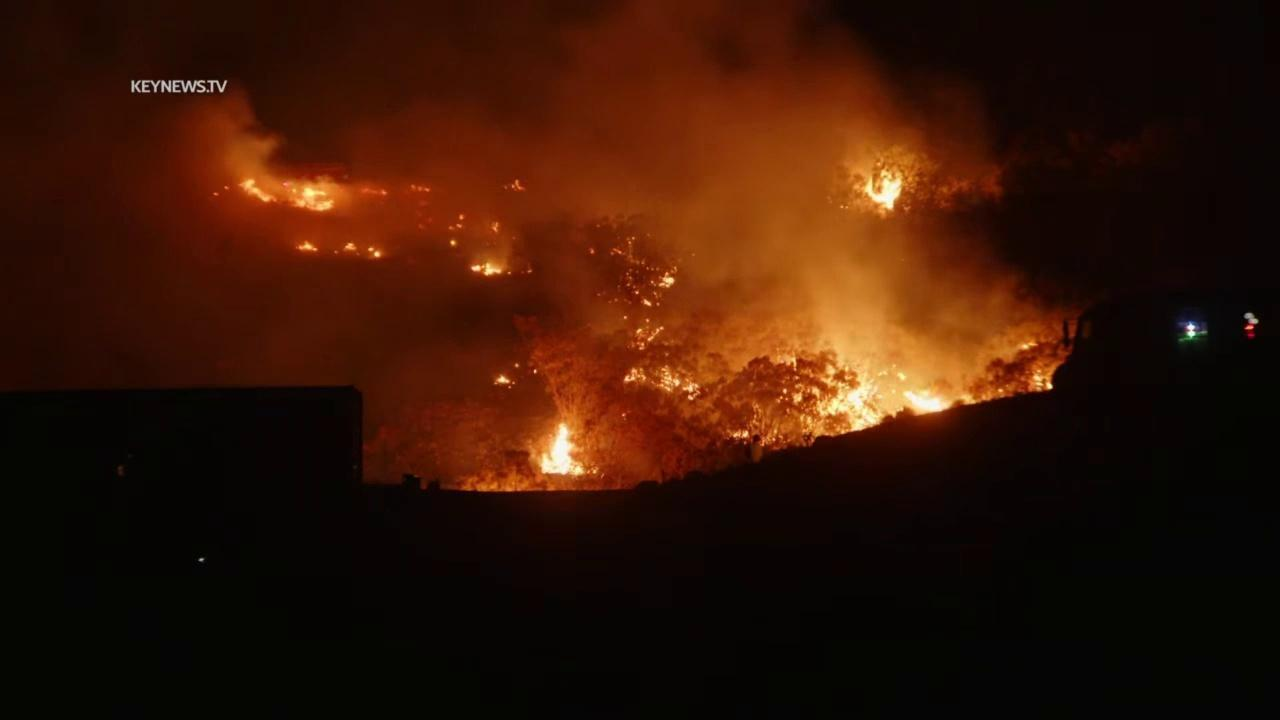fire: (779, 376, 892, 435), (233, 176, 338, 215), (539, 422, 598, 477), (623, 363, 703, 402), (862, 167, 905, 211), (901, 386, 952, 417), (634, 318, 666, 350), (1028, 367, 1054, 391), (466, 260, 502, 276), (291, 237, 320, 255), (658, 266, 680, 289), (493, 374, 515, 391), (731, 428, 750, 445), (504, 179, 526, 192), (360, 186, 387, 196), (367, 244, 383, 259), (408, 183, 431, 193), (1020, 341, 1039, 350), (344, 240, 358, 252), (896, 371, 909, 382), (641, 297, 652, 308), (448, 239, 460, 249), (490, 221, 500, 233), (588, 247, 596, 255), (448, 225, 456, 232), (458, 213, 464, 221), (212, 192, 220, 198), (456, 223, 463, 228)
smoke: (0, 0, 1033, 489)
